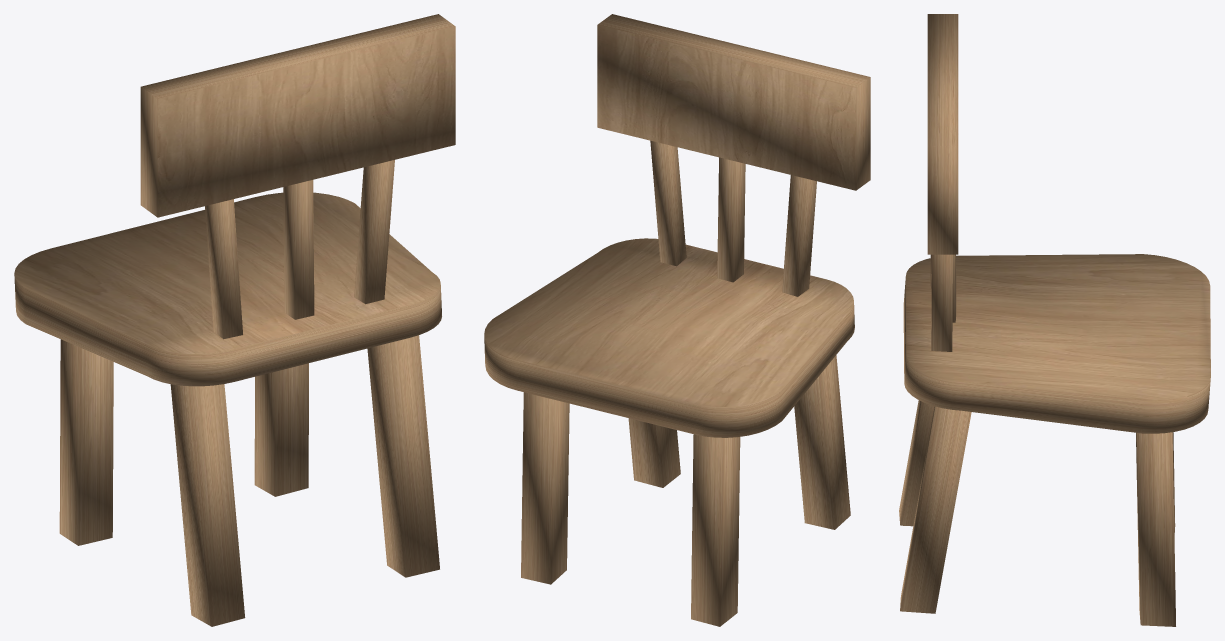
File: chair.glb
3 views of the same model, side by side, from view 1: azimuth 30°, elevation 25°; view 2: azimuth 150°, elevation 25°; view 3: azimuth 270°, elevation 25° (orthographic). The views are drawn at different scales.
Visible parts, largest first — view 1: Cube.038, Cube.040, Cube.039, Cube.043, Cube.041, Cube.042; view 2: Cube.038, Cube.040, Cube.039, Cube.043, Cube.041, Cube.042; view 3: Cube.038, Cube.039, Cube.040, Cube.043.
Part boxes in pixels (x1,y1,x2,y2): Cube.038: (14, 192, 441, 386); Cube.040: (140, 14, 455, 217); Cube.039: (59, 335, 439, 626); Cube.043: (354, 160, 394, 304); Cube.041: (283, 180, 314, 319); Cube.042: (205, 199, 242, 339); Cube.038: (484, 238, 854, 437); Cube.040: (597, 14, 870, 190); Cube.039: (521, 355, 850, 626); Cube.043: (650, 140, 686, 266); Cube.041: (717, 157, 745, 282); Cube.042: (782, 175, 816, 296); Cube.038: (903, 254, 1210, 433); Cube.039: (899, 400, 1175, 626); Cube.040: (927, 14, 958, 254); Cube.043: (931, 254, 952, 351).
Bounding box in the file's own units: 0.8487 × 1.33 × 0.758.
1 material, 1 textured.
